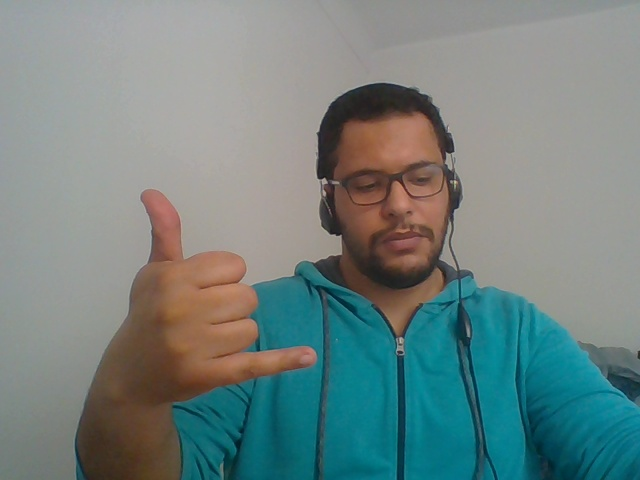callme: (86, 157, 325, 457)
